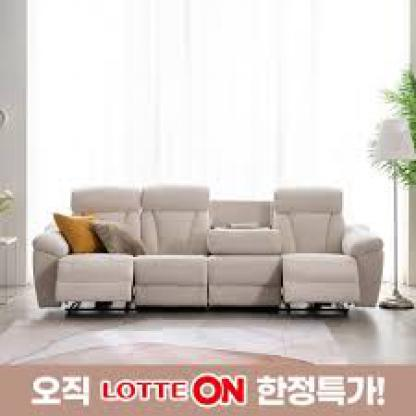sofa: (31, 188, 383, 320)
